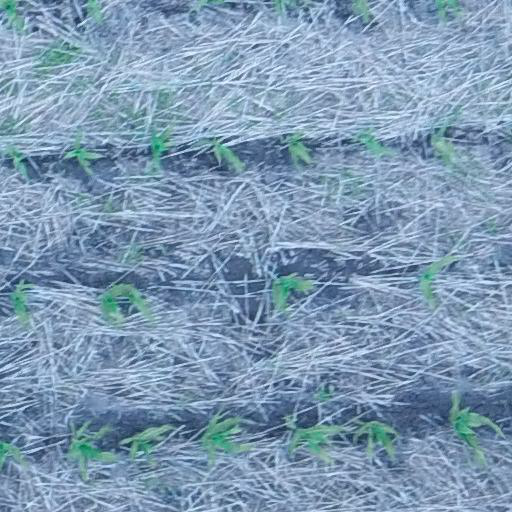planta: (448, 390, 504, 465), (66, 418, 118, 481), (199, 412, 253, 465), (286, 421, 344, 463), (419, 253, 456, 306), (118, 425, 174, 459), (192, 137, 245, 172), (62, 130, 97, 176), (355, 421, 396, 459), (272, 273, 312, 311), (114, 284, 152, 320), (355, 125, 395, 156), (99, 286, 127, 326), (9, 280, 35, 321), (429, 125, 457, 163), (286, 130, 312, 165), (150, 127, 171, 170), (3, 145, 29, 176)
